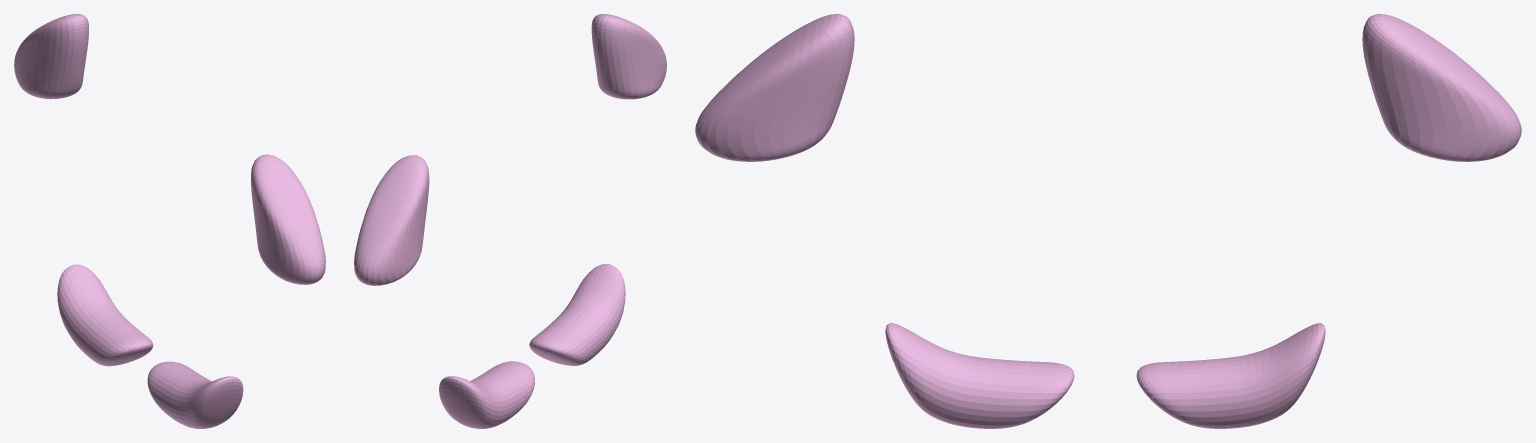
File: RukiceINogiceBlend.fbx
The picture shows the model from 3 angles, left to right: view 1: azimuth 30°, elevation 25°; view 2: azimuth 150°, elevation 25°; view 3: azimuth 270°, elevation 25°; orthographic projection. The views are drawn at different scales.
Visible parts, largest first — view 1: Cube.090; view 2: Cube.090; view 3: Cube.090.
Boxes of the visible parts, x1,y1,x2,y2 form: Cube.090: (14, 14, 325, 428); Cube.090: (354, 14, 666, 428); Cube.090: (695, 14, 1521, 428).
Size of the model in its own units: 0.2373 by 1.01 by 1.79.
